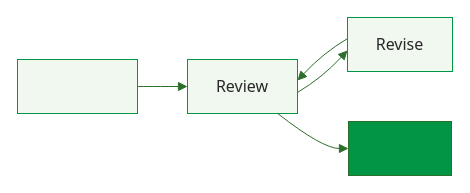
This 470x193 diagram has some shape labels left out. Here are the shapes that lost their labels. From the top down, the box of each, then its label:
(16, 58, 138, 114): Open PR
(348, 120, 452, 176): Merge
